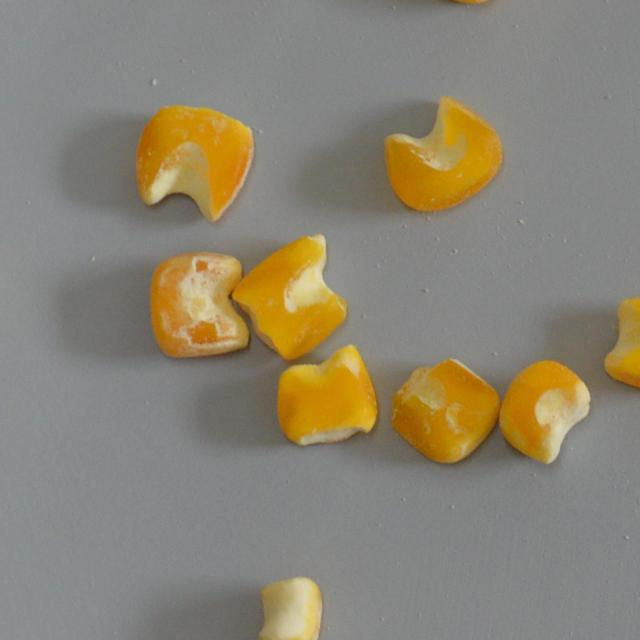no_canjicado: (231, 231, 346, 360), (382, 95, 504, 212), (276, 344, 378, 446), (499, 360, 590, 466), (604, 295, 640, 392)
pelicula: (136, 104, 252, 223), (390, 357, 501, 464), (147, 252, 251, 358), (256, 575, 322, 640)
